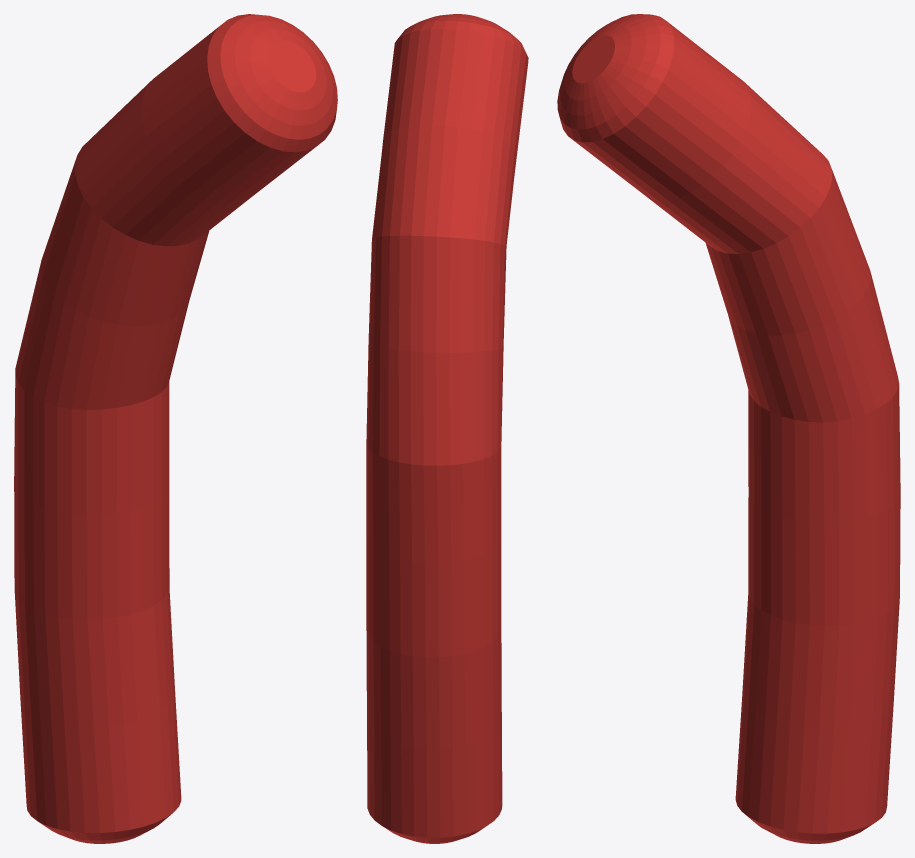
File: hotdog03.fbx
3 views of the same model, side by side, from view 1: azimuth 30°, elevation 25°; view 2: azimuth 150°, elevation 25°; view 3: azimuth 270°, elevation 25° (orthographic). The views are drawn at different scales.
Parts seen in each view (by area): view 1: hotdog.003; view 2: hotdog.003; view 3: hotdog.003.
Boxes of the visible parts, <box> form: hotdog.003: <box>14,14,337,843</box>; hotdog.003: <box>366,14,528,843</box>; hotdog.003: <box>557,14,900,843</box>.
Size of the model in its own units: 307 by 1222 by 452.
